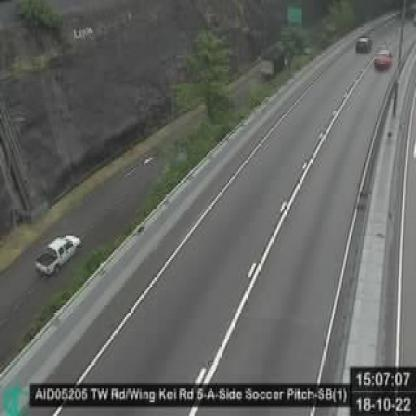Car: (34, 233, 80, 278), (373, 45, 395, 72), (354, 34, 372, 53)
